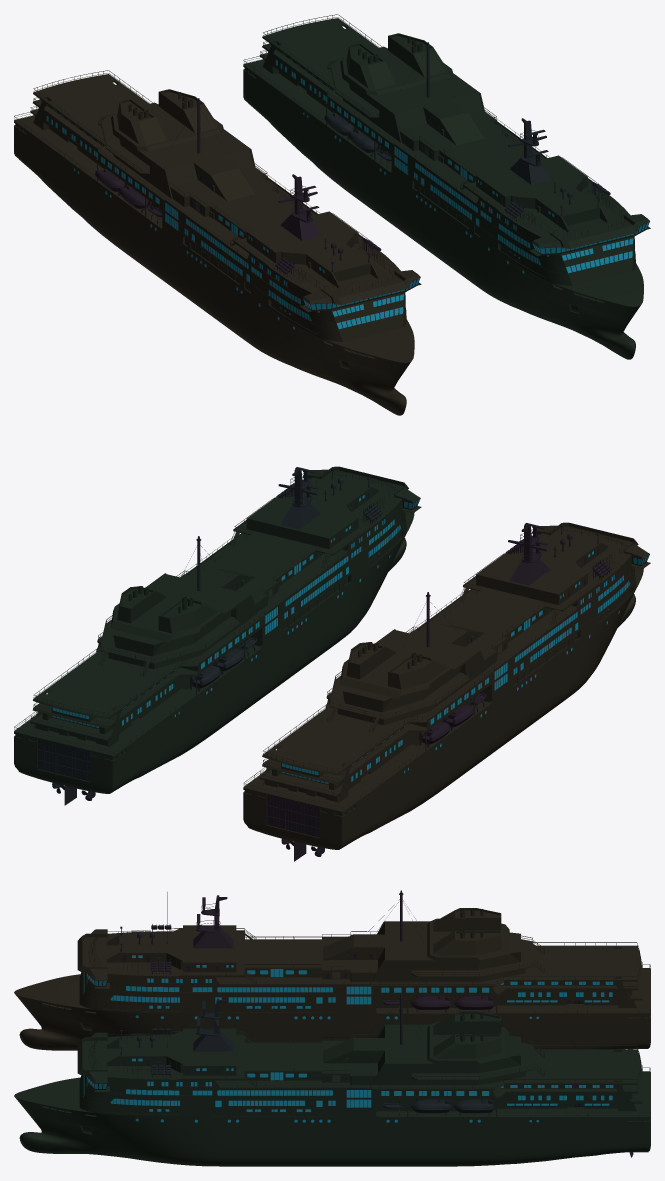
The model's file is vessel18_sf.fbx.
The picture shows the model from 3 angles, top to bottom: view 1: azimuth 30°, elevation 25°; view 2: azimuth 150°, elevation 25°; view 3: azimuth 270°, elevation 25°; orthographic projection. The views are drawn at different scales.
Parts seen in each view (by area): view 1: vessel18a rusted, vessel18a; view 2: vessel18a, vessel18a rusted; view 3: vessel18a, vessel18a rusted.
Part boxes in pixels (box(x1,y1,x2,y2)): vessel18a rusted: box(14, 70, 421, 415); vessel18a: box(243, 14, 650, 359); vessel18a: box(14, 466, 421, 805); vessel18a rusted: box(243, 522, 650, 861); vessel18a: box(14, 993, 650, 1166); vessel18a rusted: box(14, 890, 650, 1050).
Bounding box in the file's own units: 10622 × 5140 × 18507.
